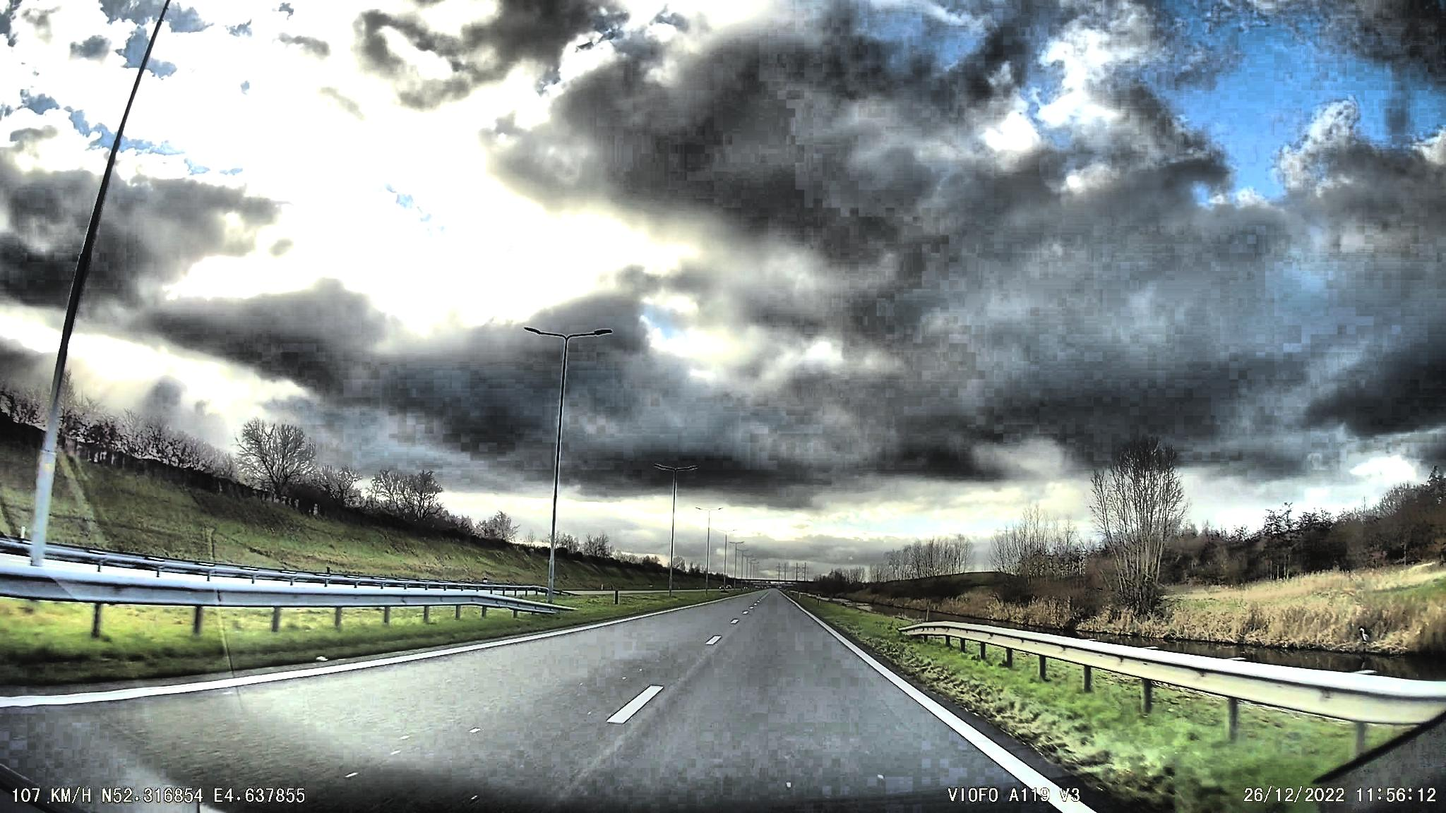Roads: (0, 586, 1107, 813)
